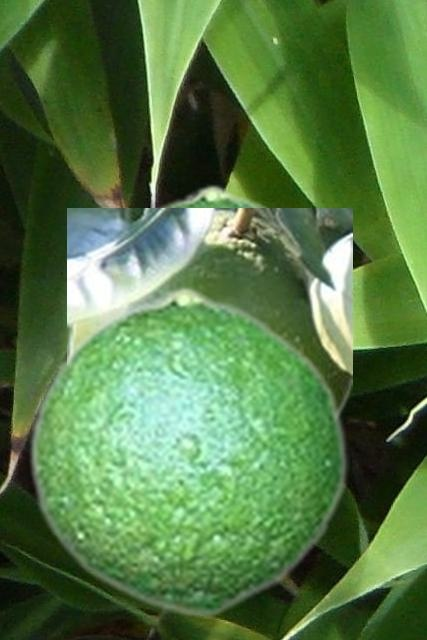dalandan: (26, 285, 348, 617), (67, 208, 351, 413), (145, 183, 354, 375)
